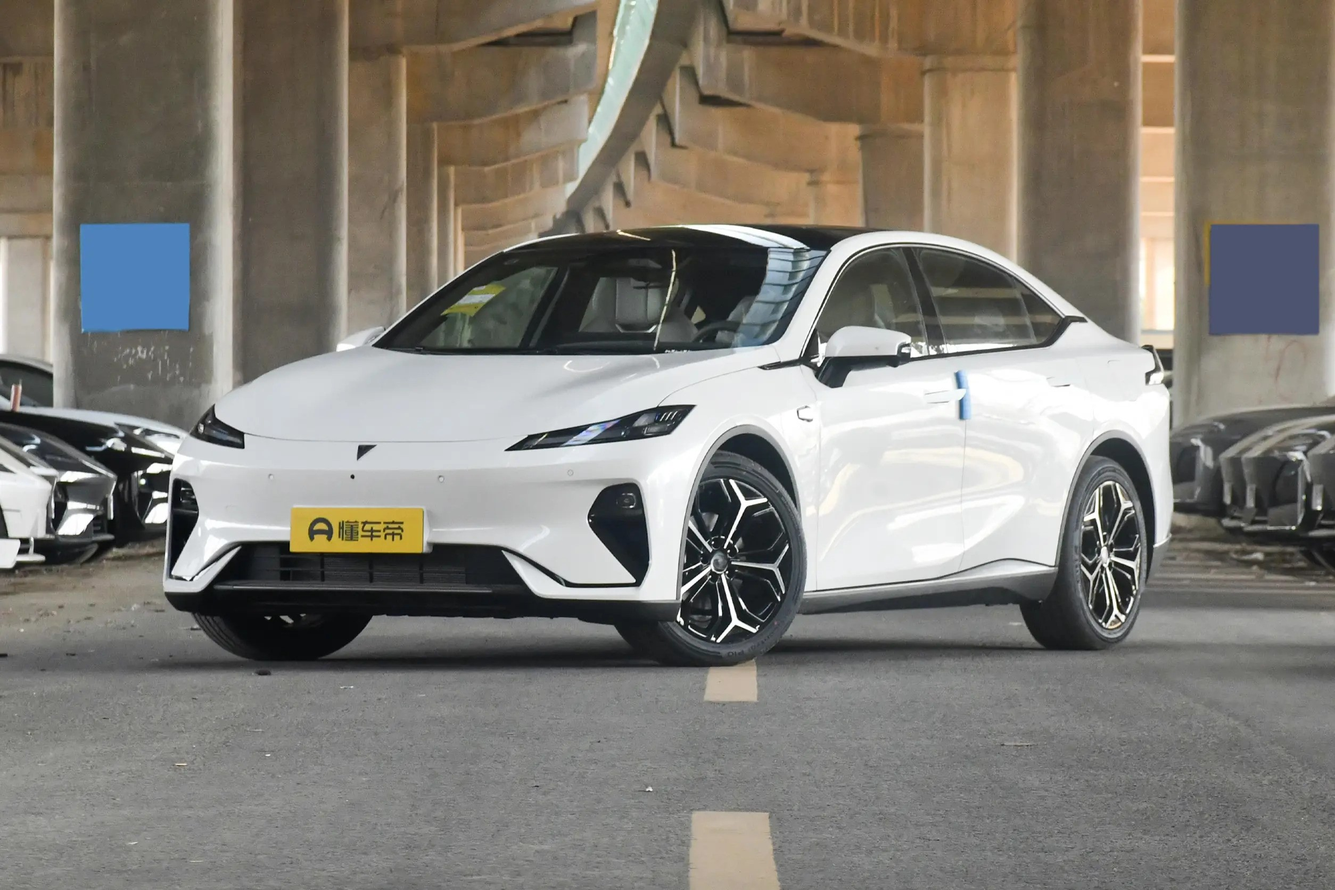Deepal: (357, 444, 377, 460)
